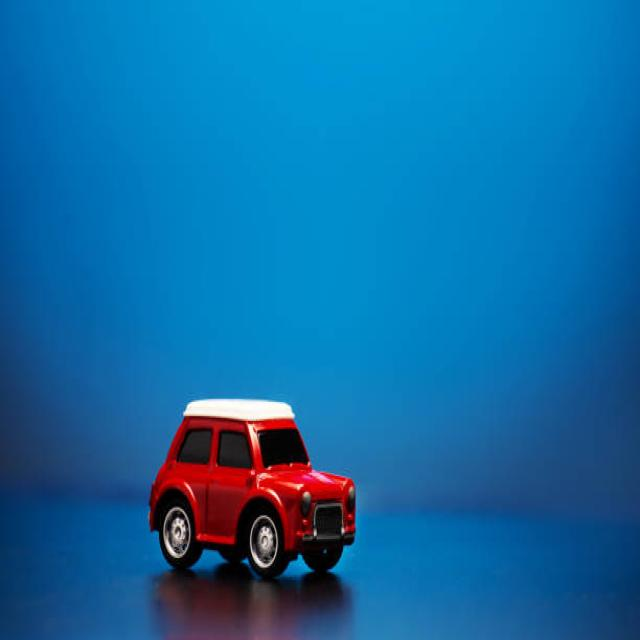Car: (147, 397, 356, 580)
